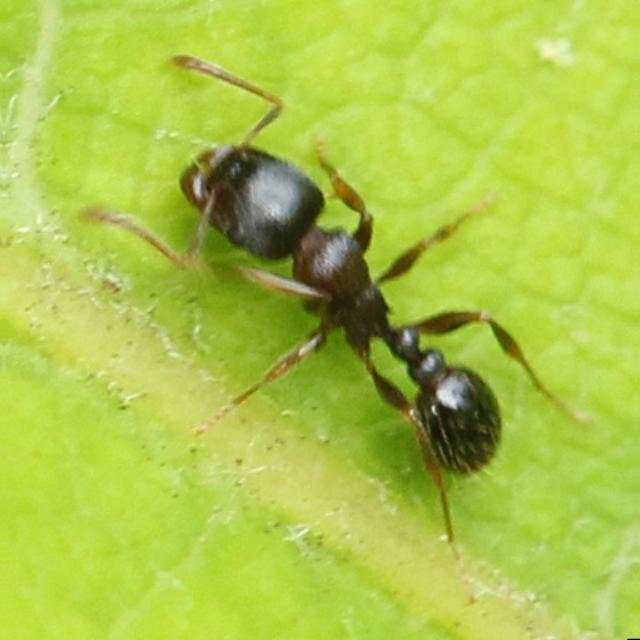Tetramorium: (121, 66, 564, 504)
